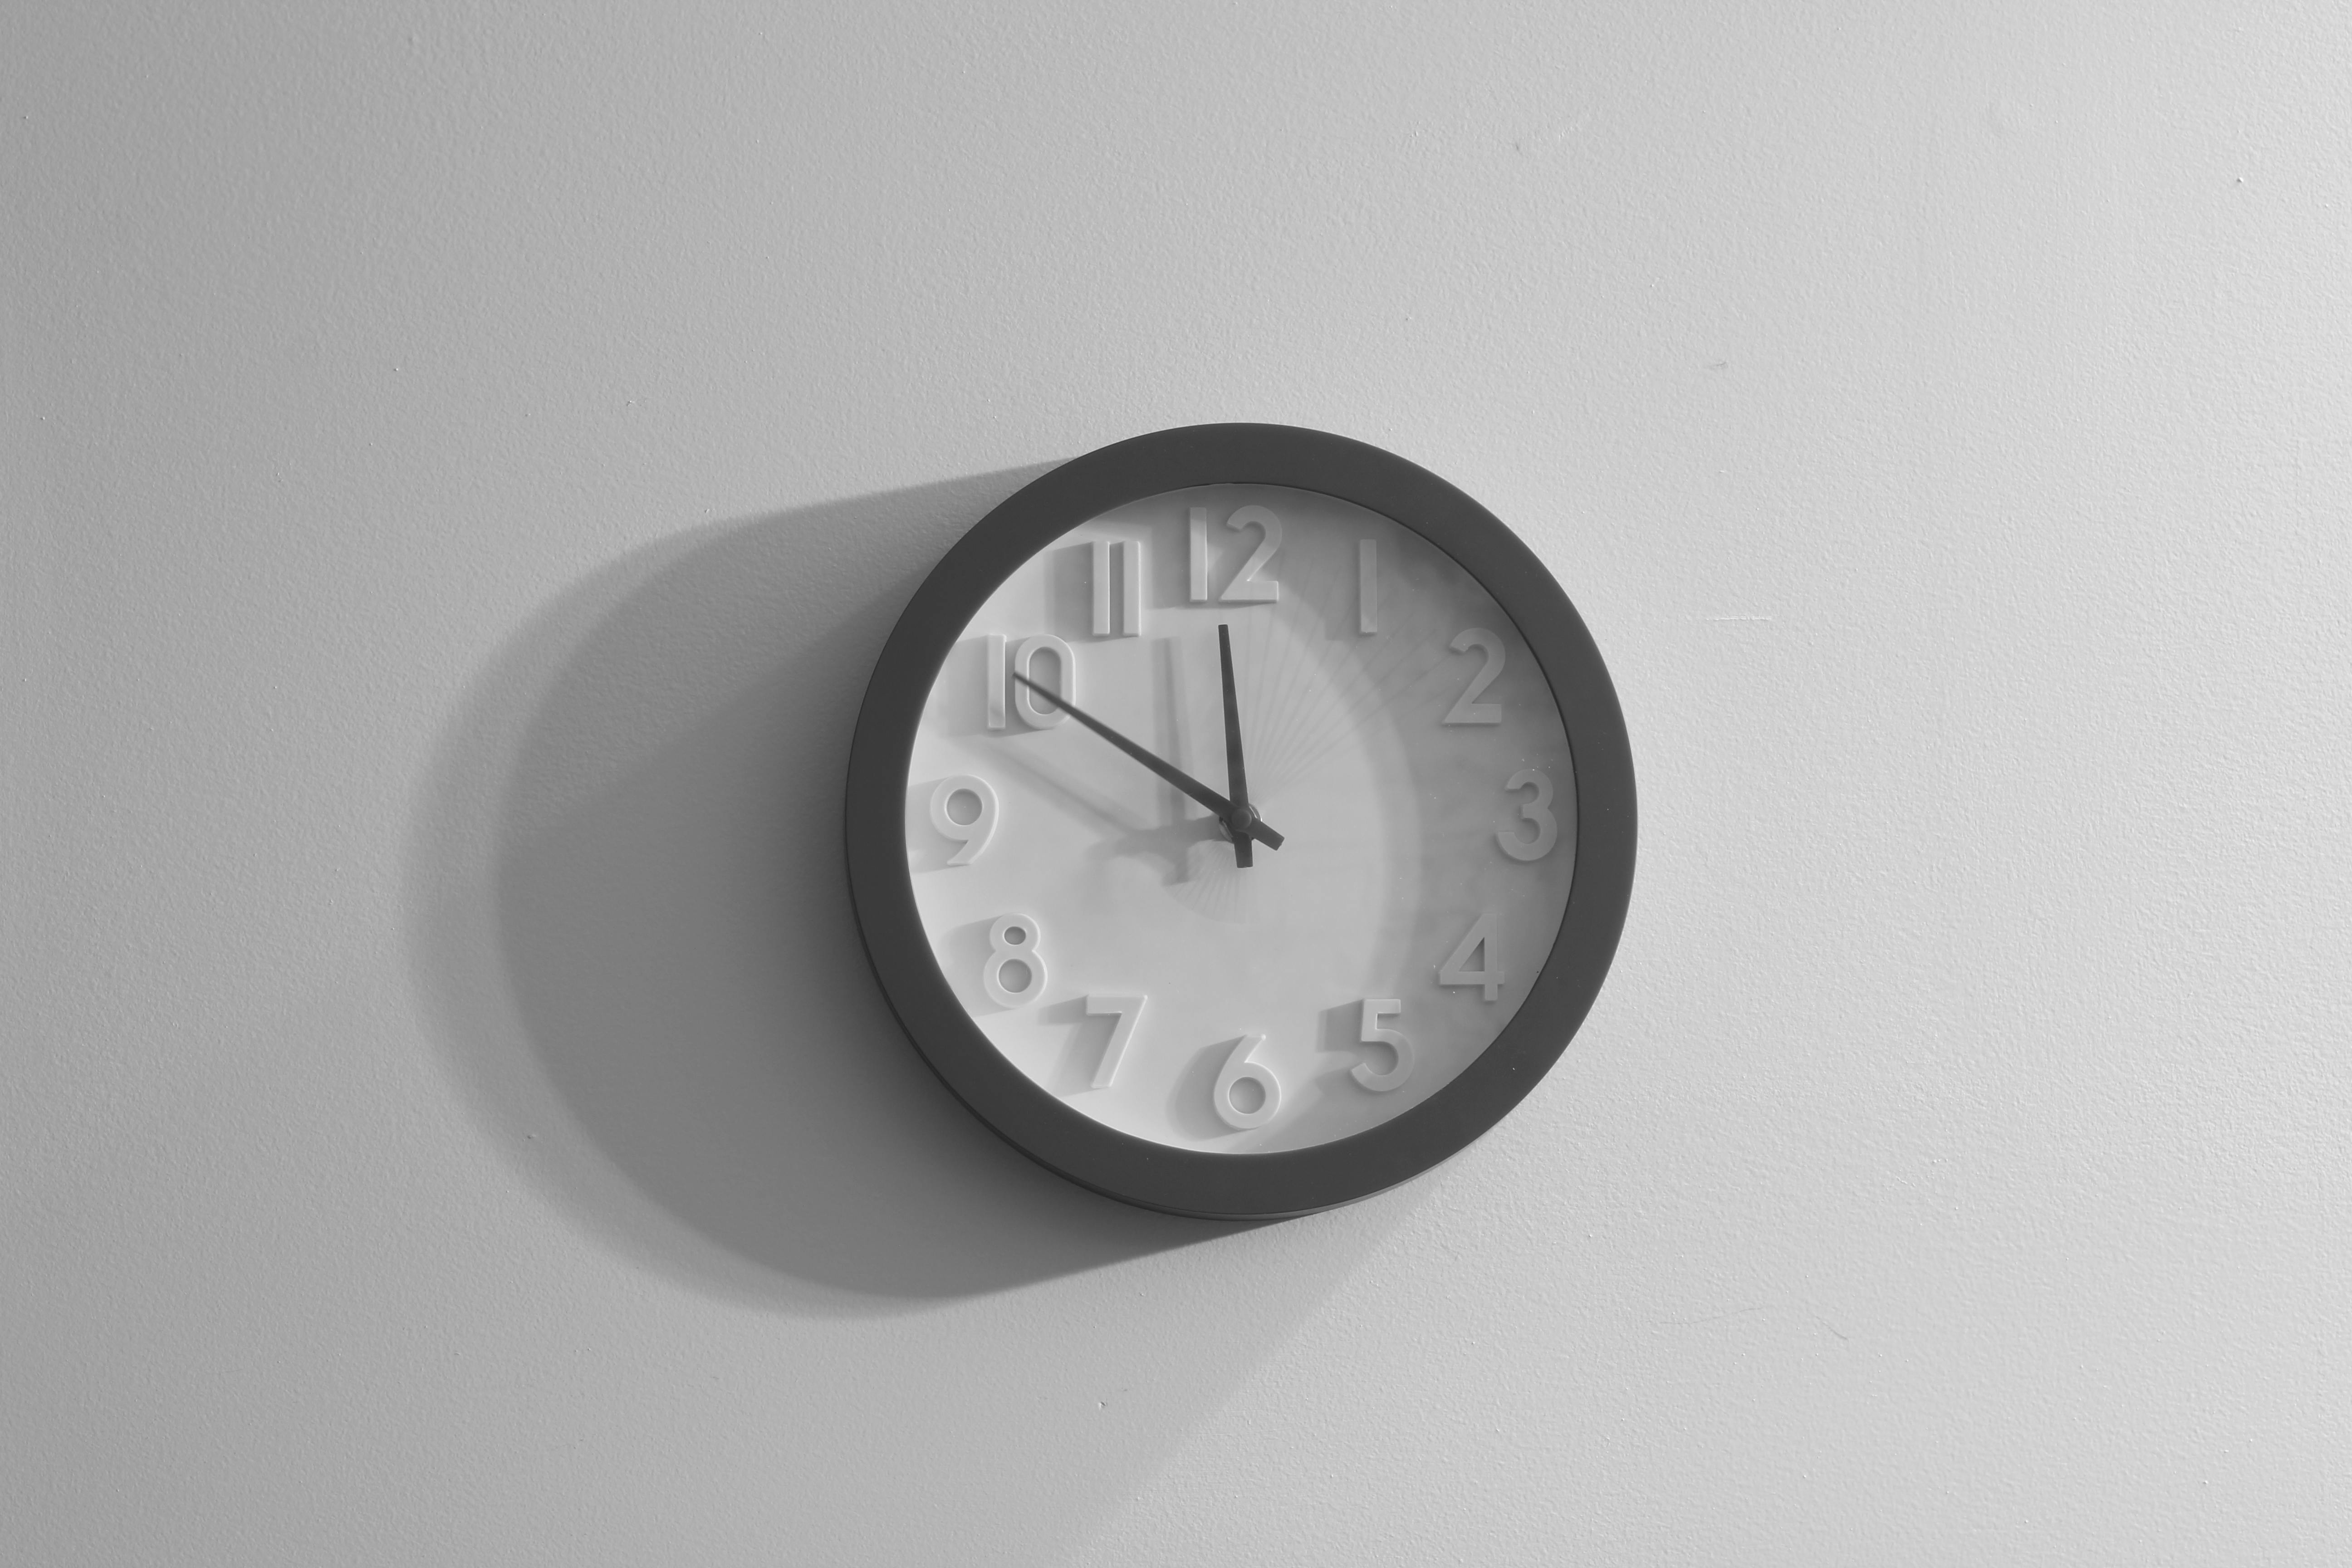clock: (620, 287, 1825, 1281)
